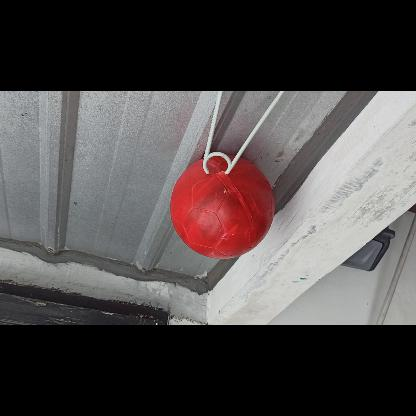red_ball: (170, 156, 272, 260)
